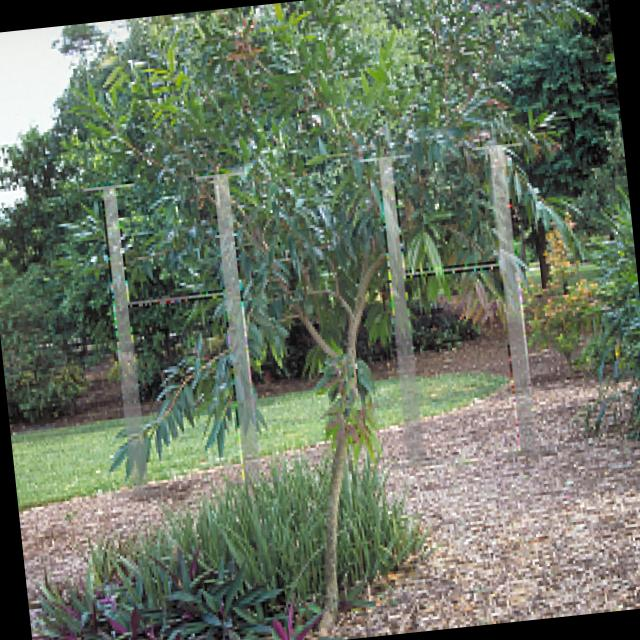Medicinal-Rose Apple: (83, 0, 488, 481)
